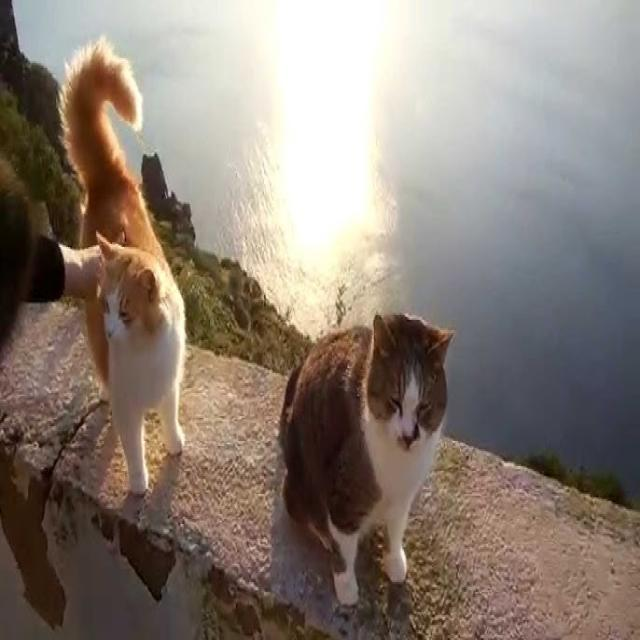cat: (61, 42, 185, 493), (280, 313, 452, 603)
